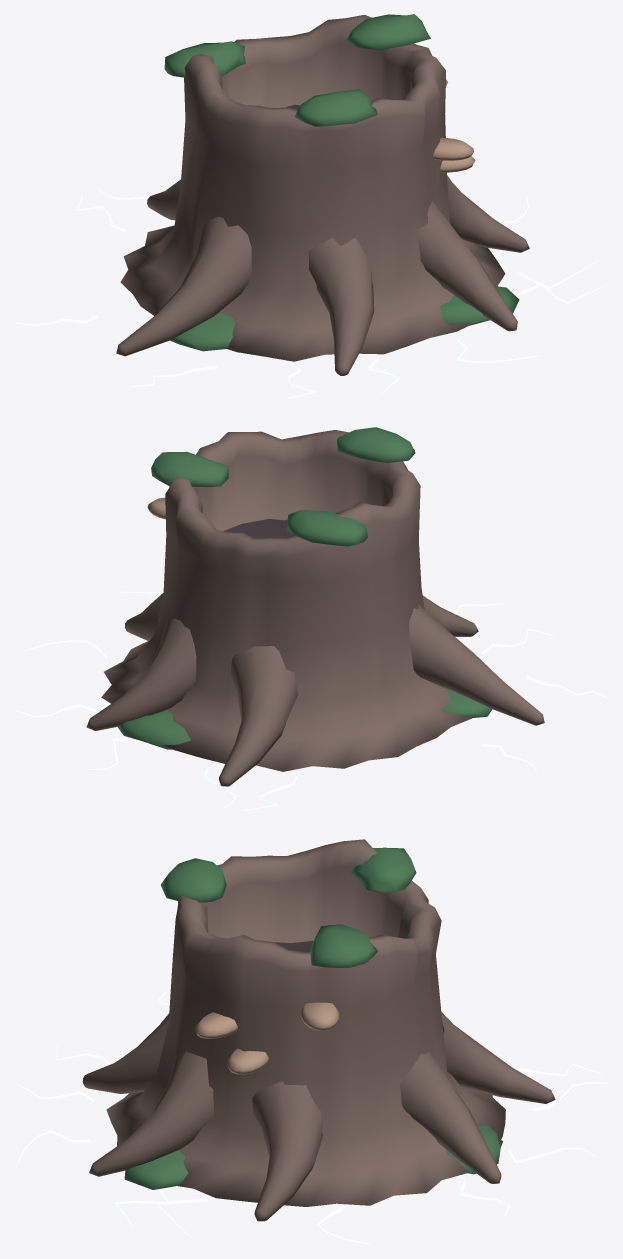
The model's file is stump.glb.
3 views of the same model, one above another, from view 1: azimuth 30°, elevation 25°; view 2: azimuth 150°, elevation 25°; view 3: azimuth 270°, elevation 25° (orthographic). The views are drawn at different scales.
Visible parts, largest first — view 1: Stump; view 2: Stump; view 3: Stump.
Part boxes in pixels (left/top/right/bottom): Stump: left=14, top=14, right=608, bottom=398; Stump: left=14, top=427, right=608, bottom=810; Stump: left=14, top=839, right=608, bottom=1244.
Size of the model in its own units: 2.51 by 1.08 by 2.4.
